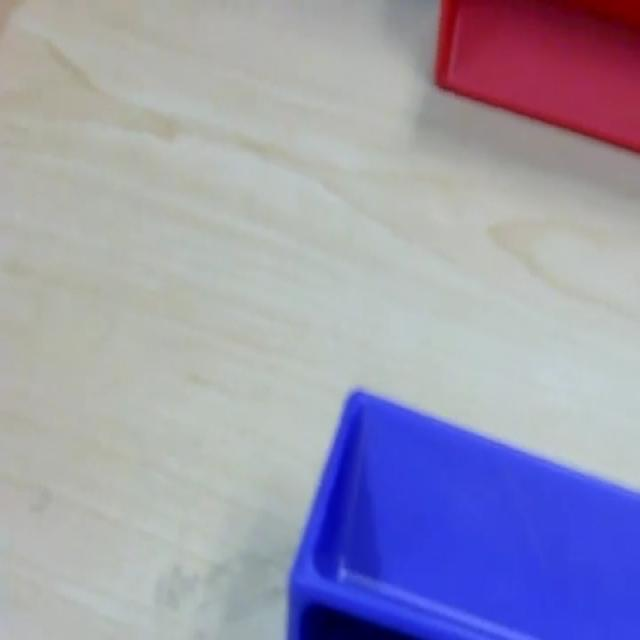blue_block: (285, 384, 639, 637)
red_block: (432, 0, 638, 153)
